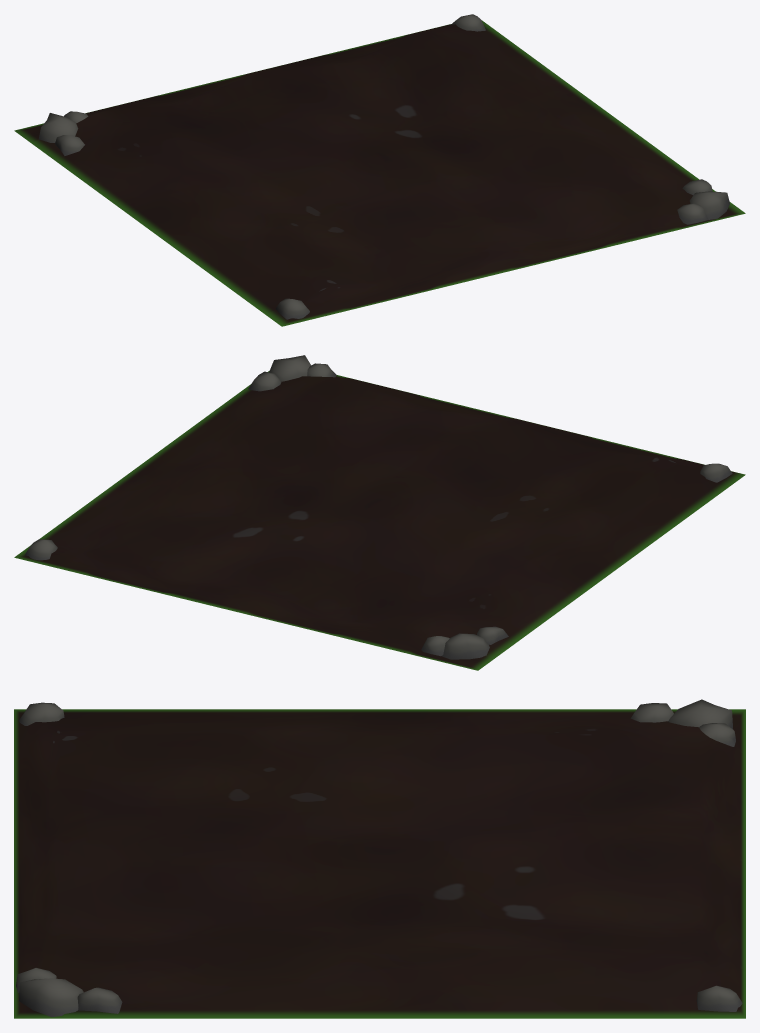
Rendered from posevi.fbx.
3 views of the same model, one above another, from view 1: azimuth 30°, elevation 25°; view 2: azimuth 150°, elevation 25°; view 3: azimuth 270°, elevation 25° (orthographic). The views are drawn at different scales.
Parts seen in each view (by area): view 1: posevi; view 2: posevi; view 3: posevi.
Boxes of the visible parts, bbox=[...] form: posevi: bbox=[14, 14, 745, 326]; posevi: bbox=[14, 355, 745, 670]; posevi: bbox=[14, 699, 745, 1018].
Size of the model in its own units: 300 by 11.25 by 300.
